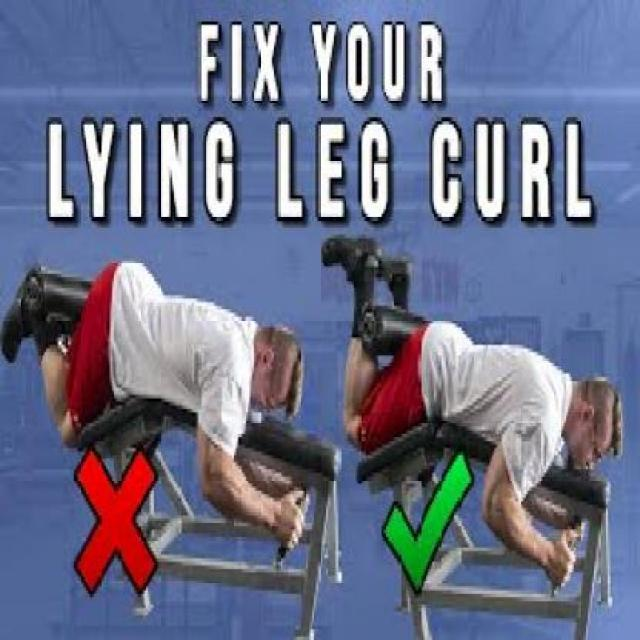reg curl machine: (3, 261, 344, 640), (326, 232, 623, 640)
